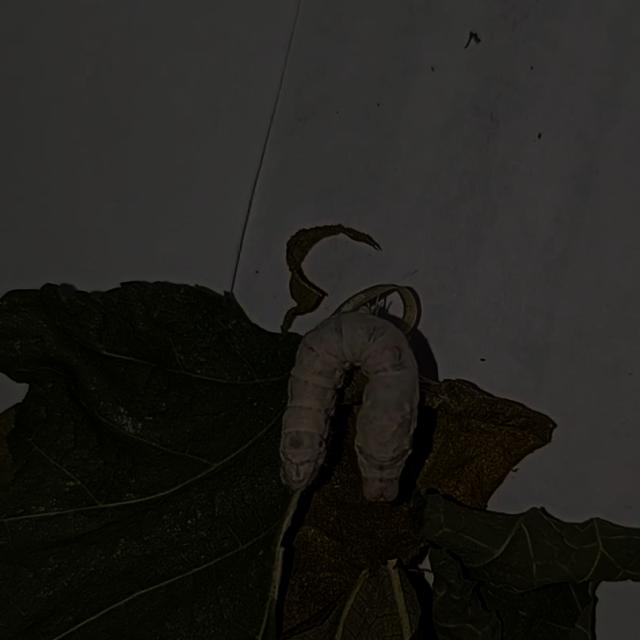Healthy: (258, 262, 468, 526)
